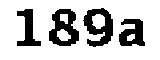1: (12, 6, 42, 52)
8: (47, 6, 80, 49)
9: (80, 5, 114, 48)
a: (118, 16, 149, 49)
